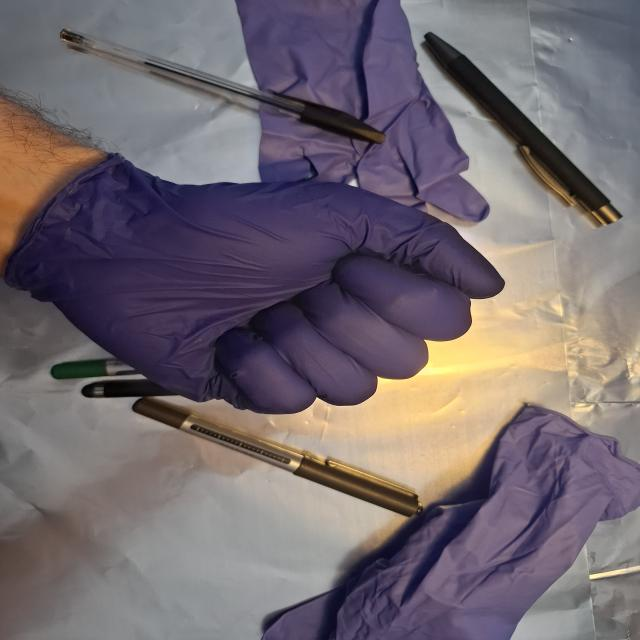glove_on: (10, 146, 512, 418)
